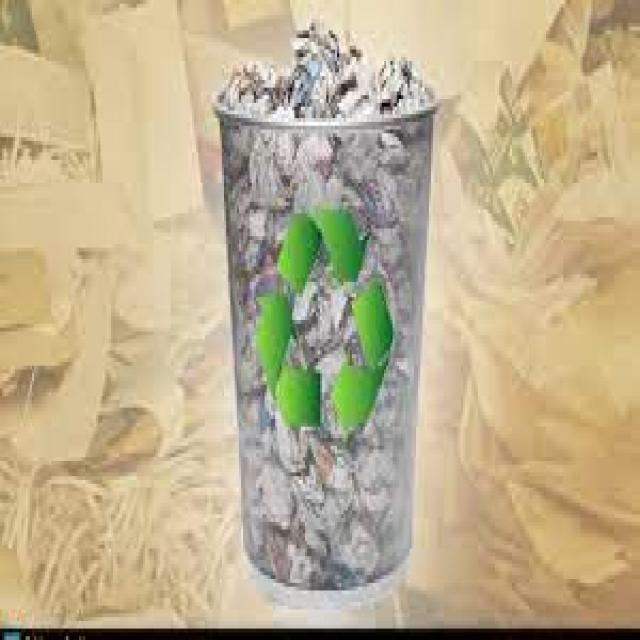Paper -Biodegradable-: (219, 11, 439, 598)
